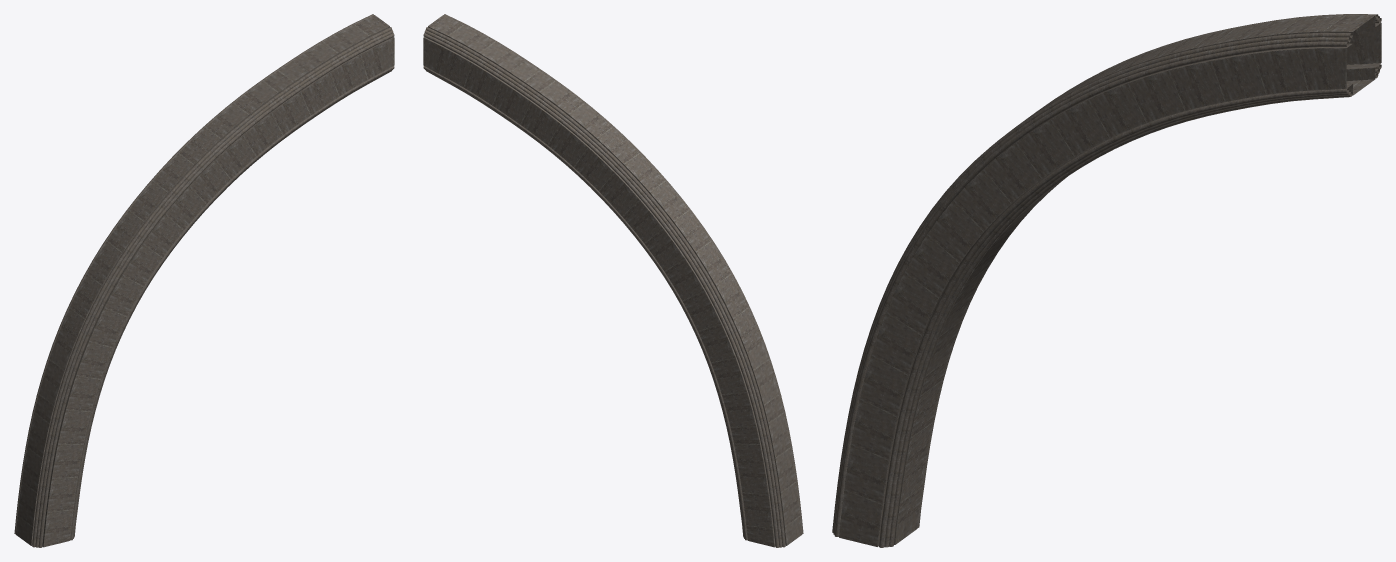
The model's file is ArcSingleSquare.fbx.
3 renders of one model, left to right at view 1: azimuth 30°, elevation 25°; view 2: azimuth 150°, elevation 25°; view 3: azimuth 330°, elevation 25°, orthographic. The views are drawn at different scales.
Visible parts, largest first — view 1: Trim_Arc_Single_square; view 2: Trim_Arc_Single_square; view 3: Trim_Arc_Single_square.
Part boxes in pixels (x1,y1,x2,y2): Trim_Arc_Single_square: [14, 14, 394, 547]; Trim_Arc_Single_square: [423, 14, 803, 547]; Trim_Arc_Single_square: [832, 14, 1381, 547].
Size of the model in its own units: 2550 by 2935 by 300.
